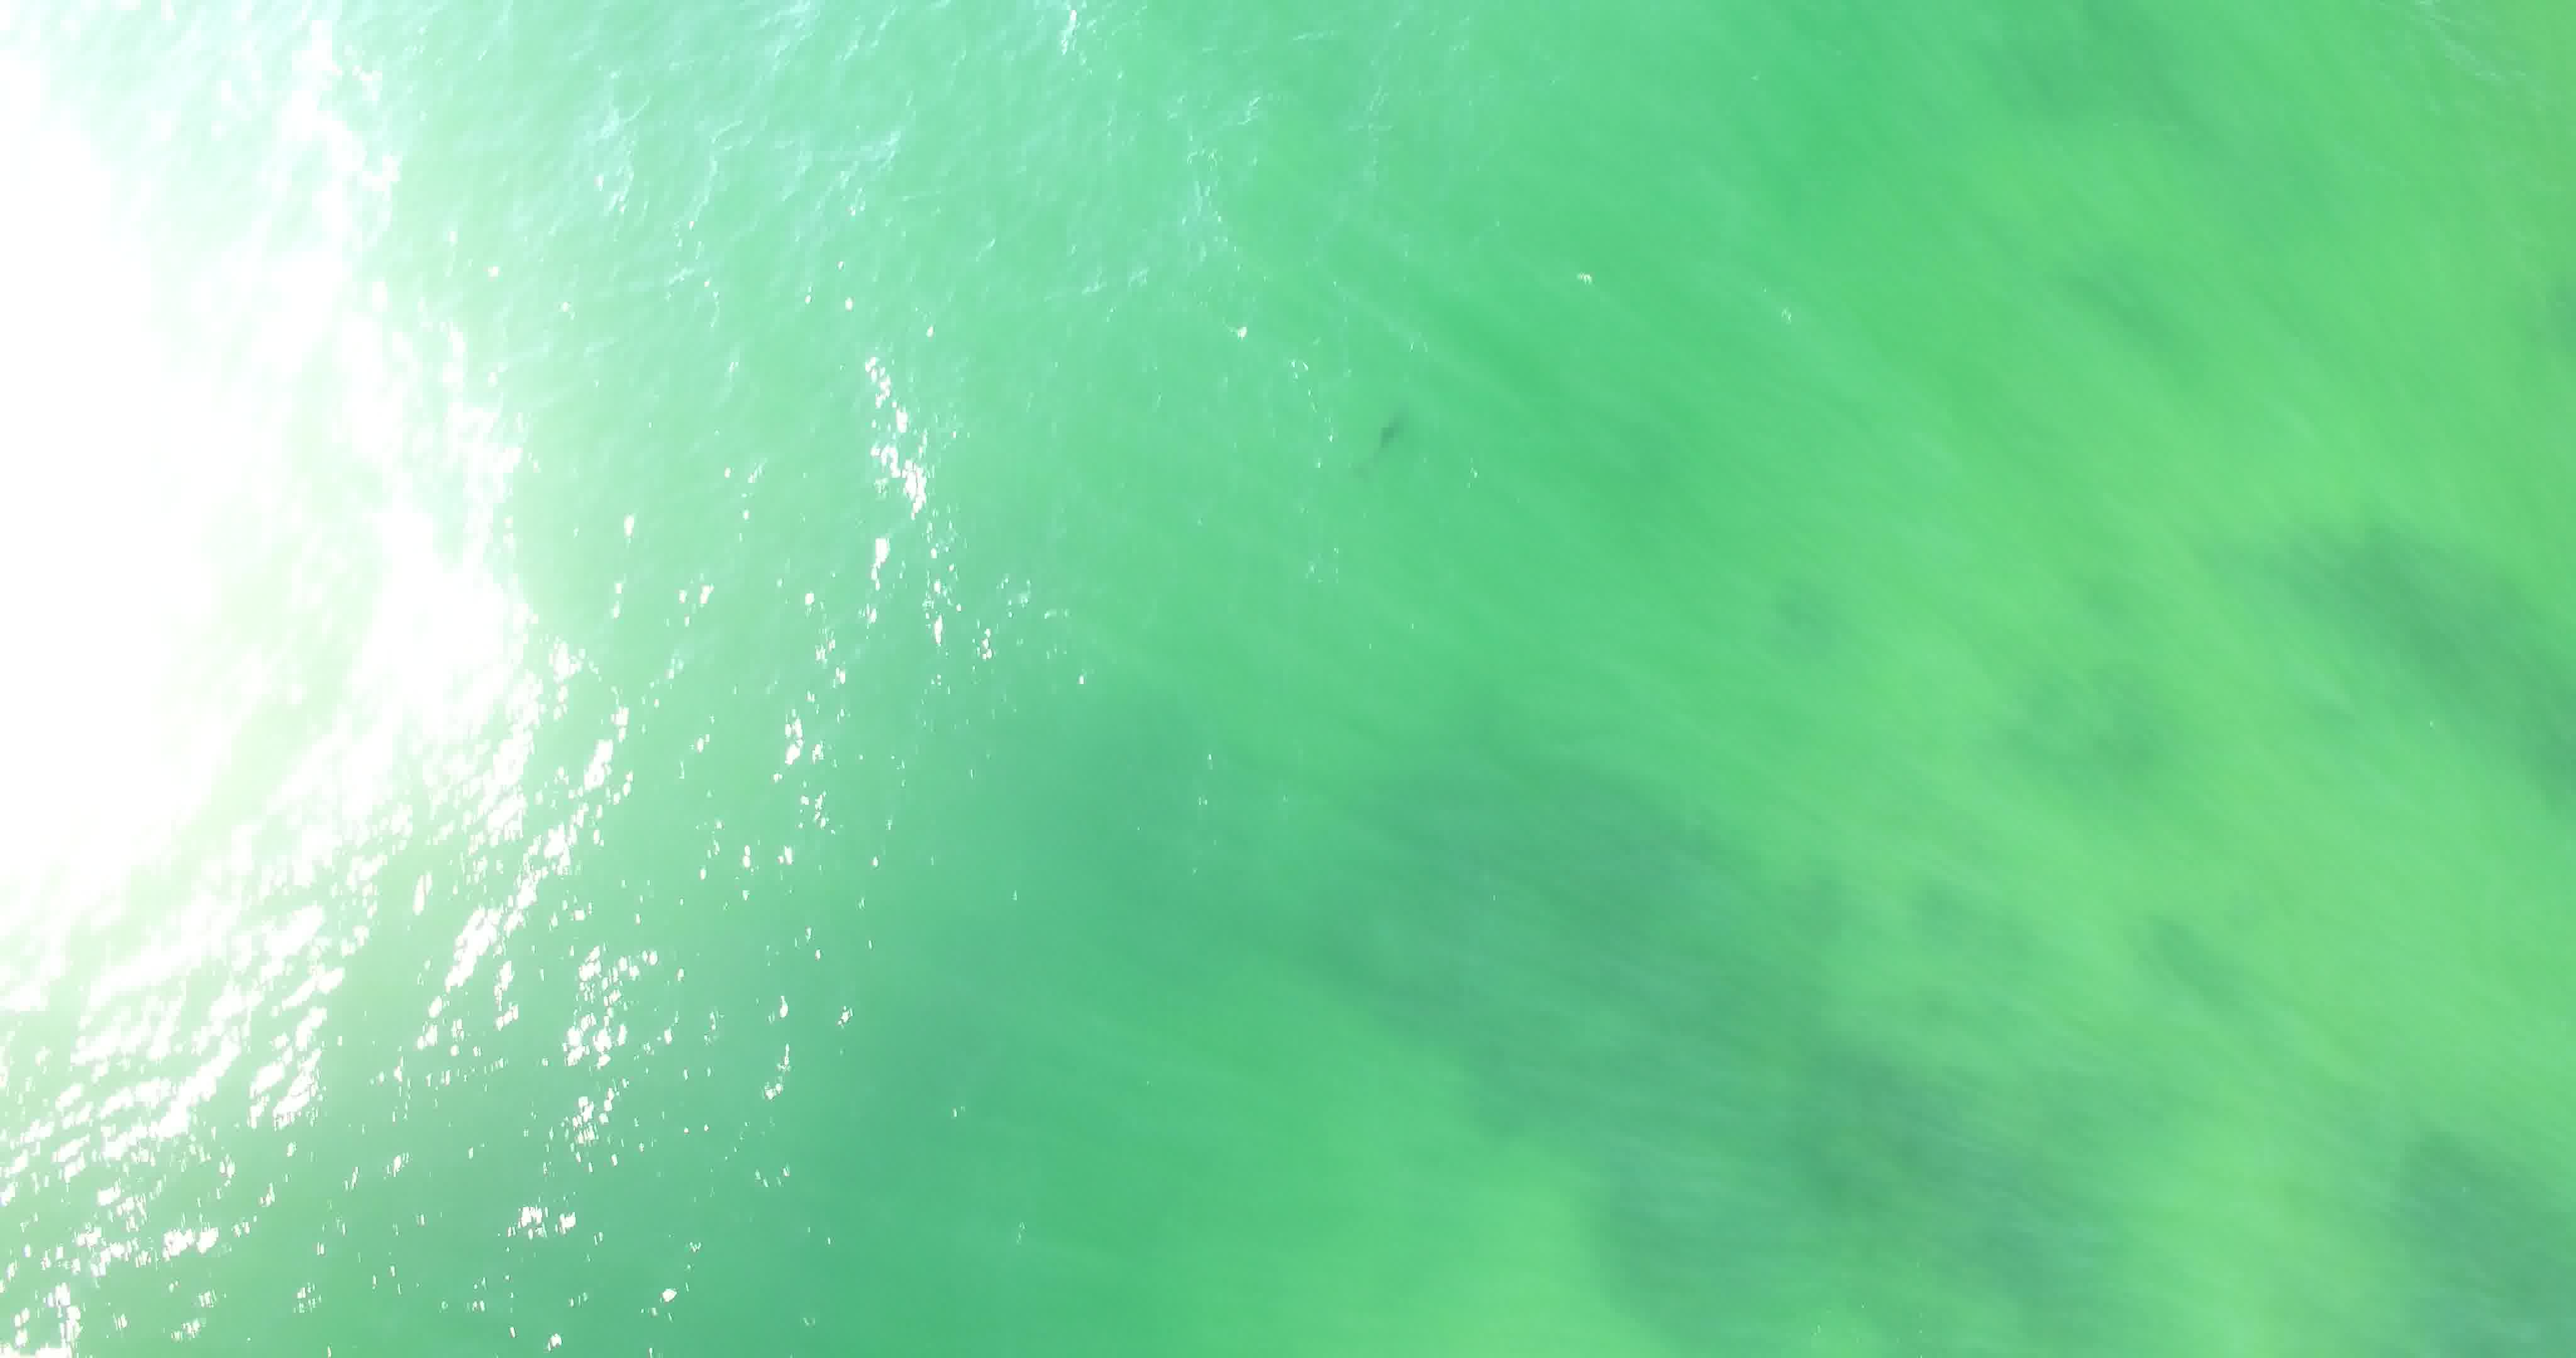dolphin: (1339, 382, 1428, 501)
